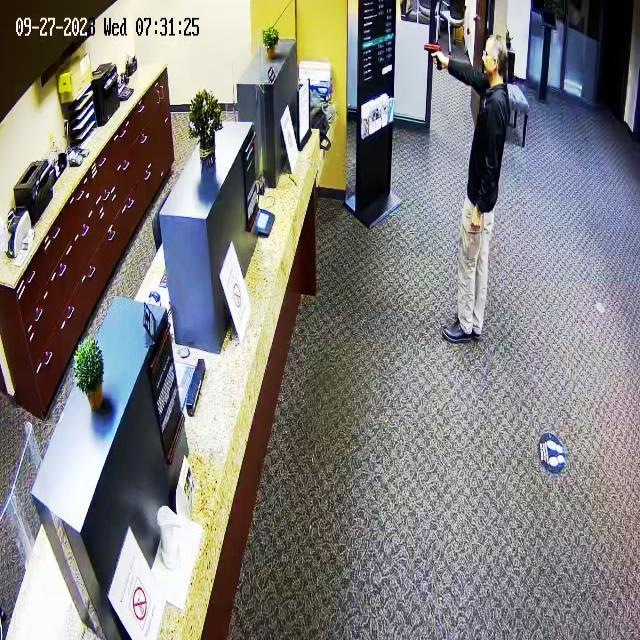Gun: (416, 34, 452, 74)
